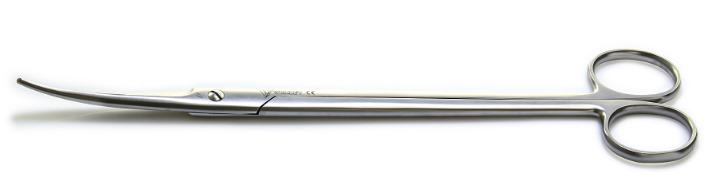Curved Mayo: (8, 37, 699, 176)
